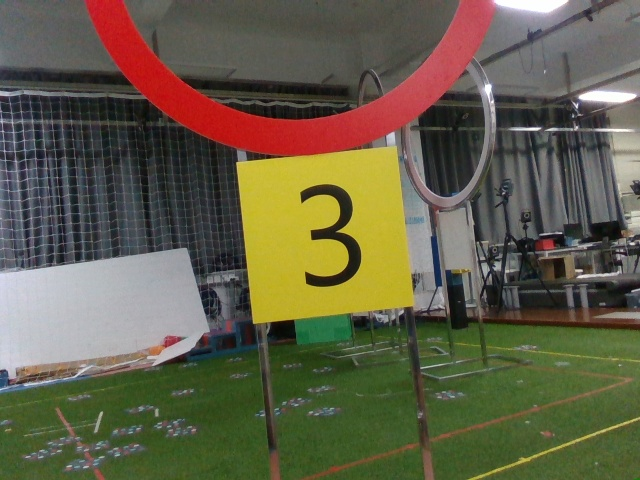target: (247, 156, 409, 305)
